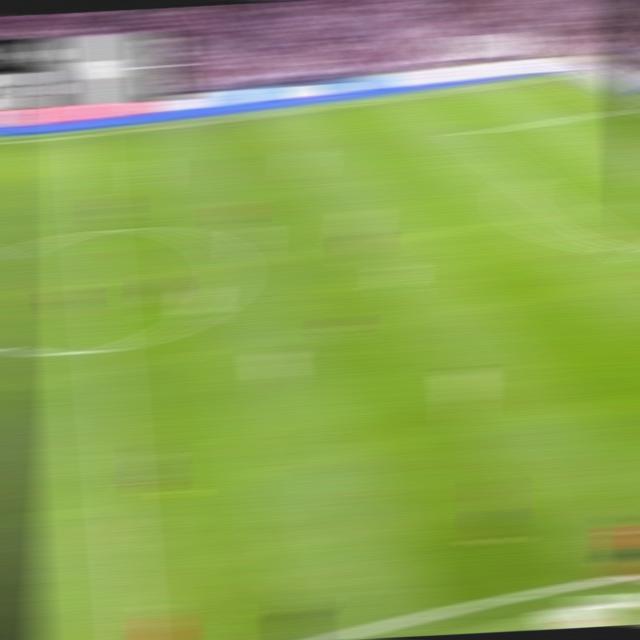bigarea_top_inner: (454, 126, 482, 140)
bottom_arc_area_intersection: (606, 238, 638, 258)
corner: (542, 72, 570, 82)
halfcircle_bottom: (90, 333, 124, 362)
halfcircle_top: (79, 220, 112, 242)
midline_top_intersection: (71, 126, 101, 144)
top_arc_area_intersection: (513, 170, 541, 184)
